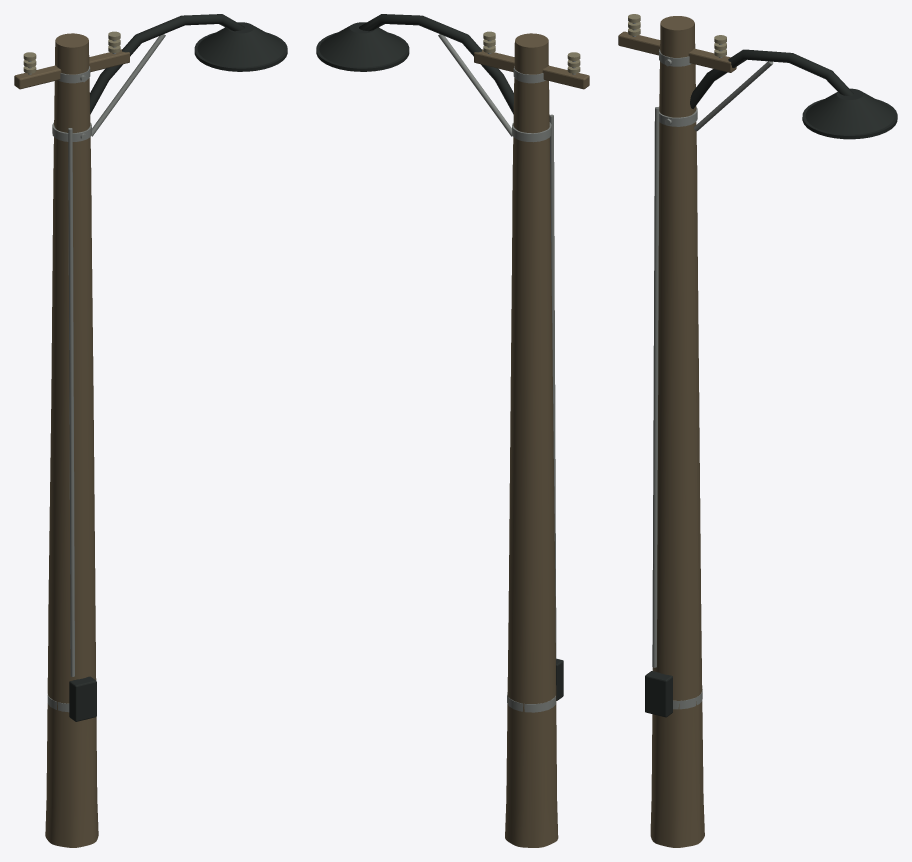
File: noir-lightpole.glb
3 views of the same model, side by side, from view 1: azimuth 30°, elevation 25°; view 2: azimuth 150°, elevation 25°; view 3: azimuth 330°, elevation 25° (orthographic). The views are drawn at different scales.
Parts seen in each view (by area): view 1: utility-pole-timber, lamp-enamel, fence-galvanized-steel, lamp-ceramic; view 2: utility-pole-timber, lamp-enamel, fence-galvanized-steel, lamp-ceramic; view 3: utility-pole-timber, lamp-enamel, fence-galvanized-steel, lamp-ceramic.
Part boxes in pixels (x1,y1,x2,y2): utility-pole-timber: [14, 33, 129, 847]; lamp-enamel: [69, 14, 287, 721]; fence-galvanized-steel: [28, 34, 165, 712]; lamp-ceramic: [23, 31, 120, 73]; utility-pole-timber: [474, 33, 589, 847]; lamp-enamel: [316, 14, 563, 700]; fence-galvanized-steel: [438, 34, 575, 712]; lamp-ceramic: [483, 31, 580, 73]; utility-pole-timber: [618, 16, 736, 847]; lamp-enamel: [645, 49, 897, 717]; fence-galvanized-steel: [632, 23, 773, 709]; lamp-ceramic: [628, 14, 726, 56].
Size of the model in its own units: 2.19 by 6.31 by 0.67.
